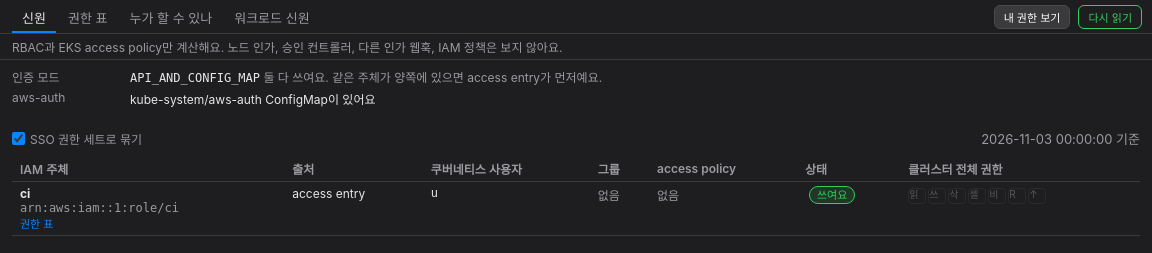
Test: opening a subject from the identities jumps to the matrix filtered by that name
Click the button "권한 표".
click(37, 223)  # box [20, 215, 54, 231]
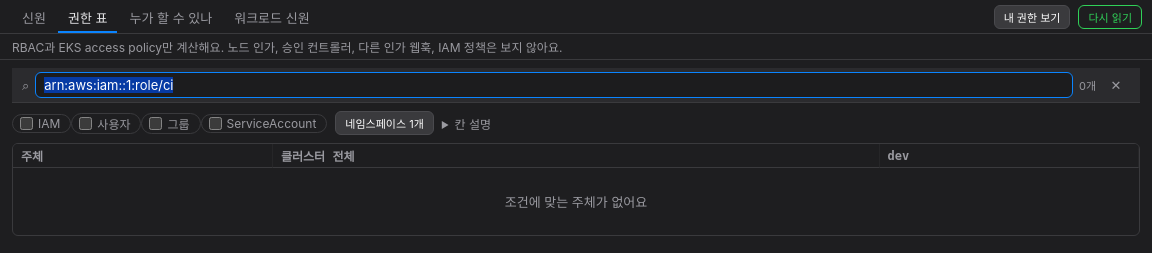
Now the field named "목록에서 찾기" holds "arn:aws:iam::1:role/ci", box [35, 72, 1073, 98]
